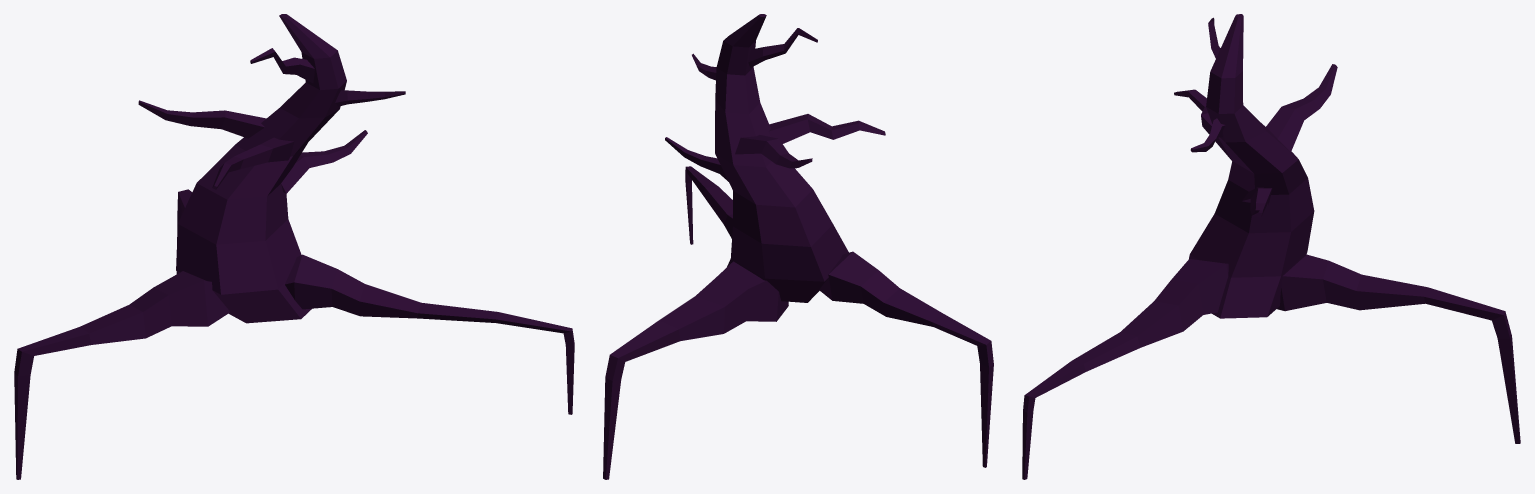
The model's file is BigTree.fbx.
3 renders of one model, left to right at view 1: azimuth 30°, elevation 25°; view 2: azimuth 150°, elevation 25°; view 3: azimuth 270°, elevation 25°, orthographic. The views are drawn at different scales.
Visible parts, largest first — view 1: DarkTree3.001; view 2: DarkTree3.001; view 3: DarkTree3.001.
Part boxes in pixels (<box>): DarkTree3.001: <box>14,14,574,479</box>; DarkTree3.001: <box>603,14,993,479</box>; DarkTree3.001: <box>1022,14,1520,479</box>.
Bounding box in the file's own units: 3830 × 3402 × 3653.
